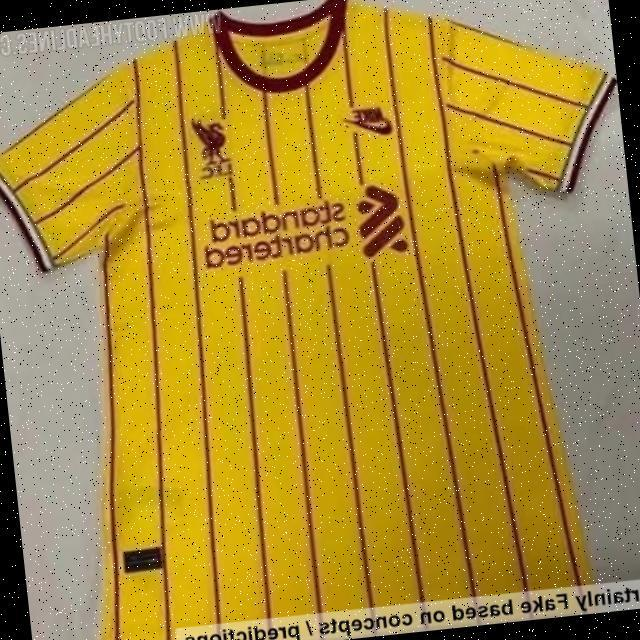Nike: (338, 98, 399, 141)
Standard Chartered: (198, 178, 413, 278)
